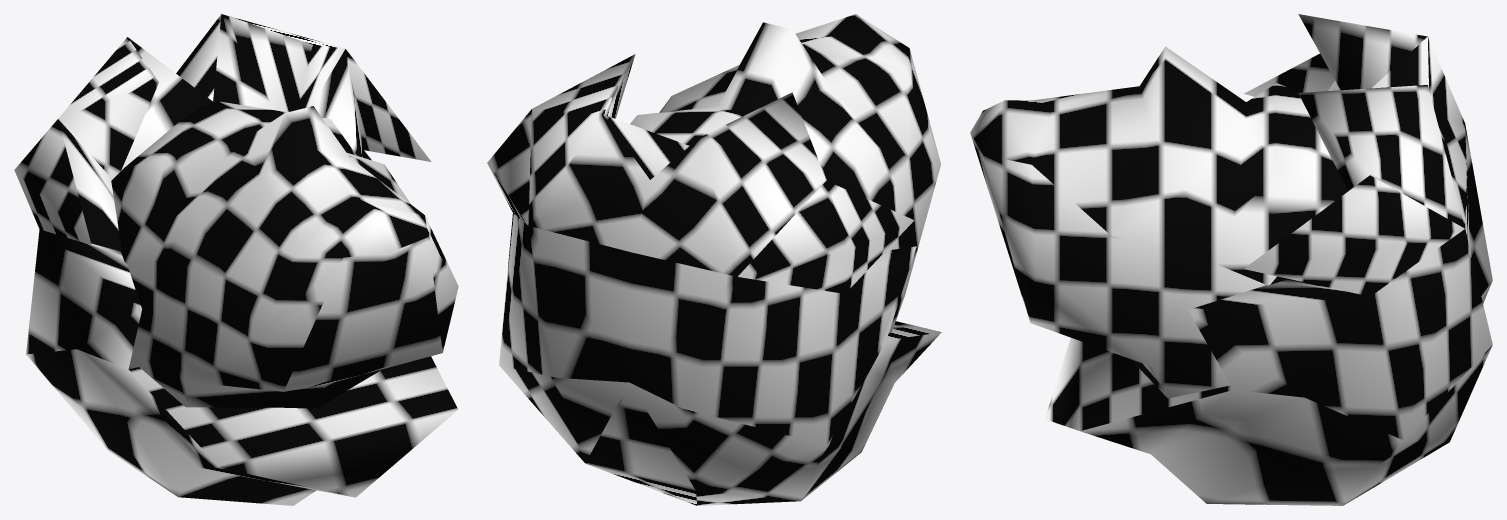
Rendered from infa0.dae.
3 renders of one model, left to right at view 1: azimuth 30°, elevation 25°; view 2: azimuth 150°, elevation 25°; view 3: azimuth 270°, elevation 25°, orthographic. The views are drawn at different scales.
Visible parts, largest first — view 1: face; view 2: face; view 3: face.
Boxes of the visible parts, x1,y1,x2,y2 form: face: [14, 14, 458, 505]; face: [487, 14, 941, 505]; face: [970, 14, 1492, 505].
Size of the model in its own units: 1.2 by 1.47 by 1.34.
1 material, 1 textured.
